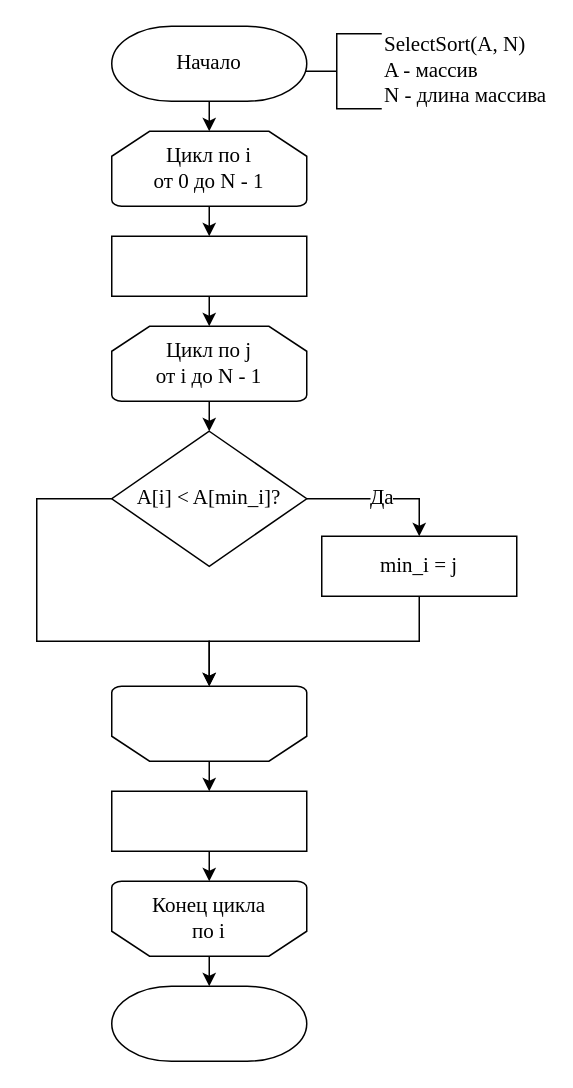
The diagram is 573 pixels wide and 1088 high, and some of its shapes have lost their labels. The box of each missing label's shape, as (x1, y1, x2, y2) in pixels:
min_i = i: (110, 235, 307, 296)
Конец: (110, 985, 307, 1061)
Конец цикла по j: (110, 685, 307, 761)
Обменять значениями A[i] и A[min_i]: (110, 790, 307, 851)
